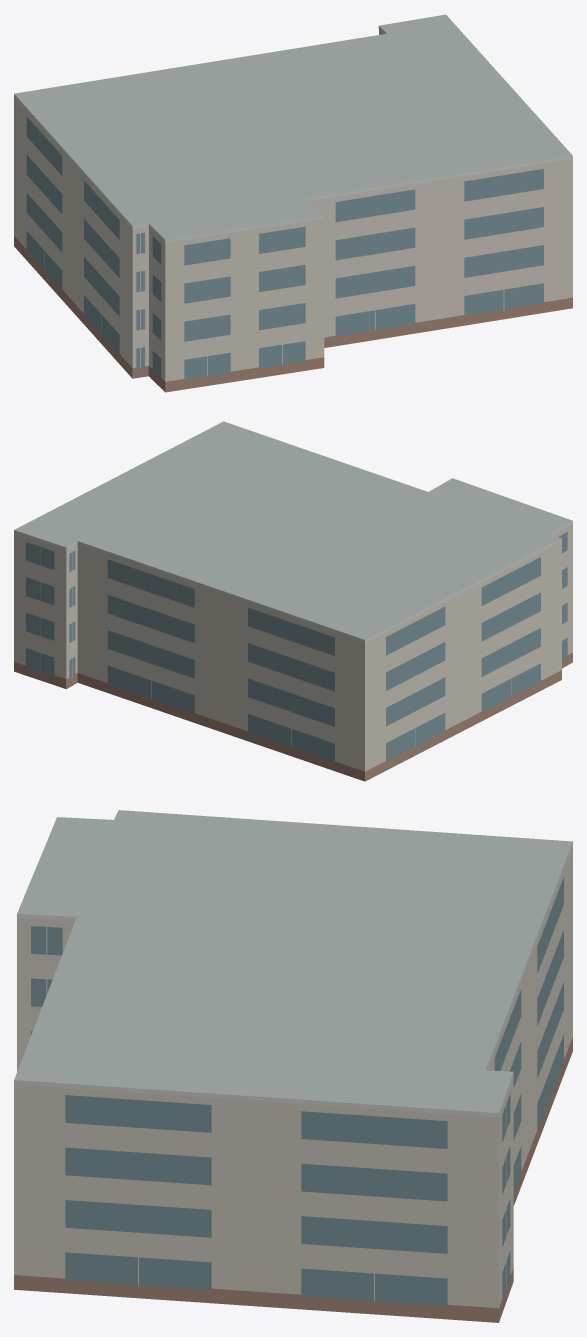
The model's file is survey-upis-33028611.glb.
3 views of the same model, one above another, from view 1: azimuth 30°, elevation 25°; view 2: azimuth 150°, elevation 25°; view 3: azimuth 270°, elevation 25° (orthographic). The views are drawn at different scales.
Visible parts, largest first — view 1: survey-upis-33028611.tmp; view 2: survey-upis-33028611.tmp; view 3: survey-upis-33028611.tmp.
Boxes of the visible parts, box(x1,y1,x2,y2) form: survey-upis-33028611.tmp: box(14, 14, 572, 392); survey-upis-33028611.tmp: box(14, 421, 572, 781); survey-upis-33028611.tmp: box(14, 810, 572, 1322).
Size of the model in its own units: 37.81 by 12.2 by 29.46.
